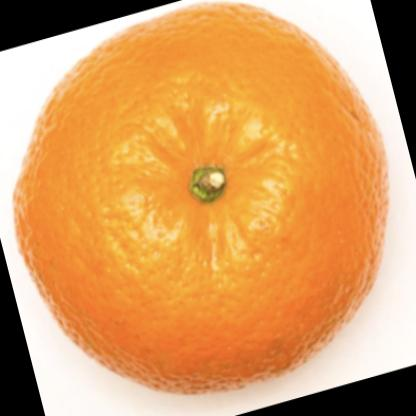fresh: (19, 7, 392, 395)
